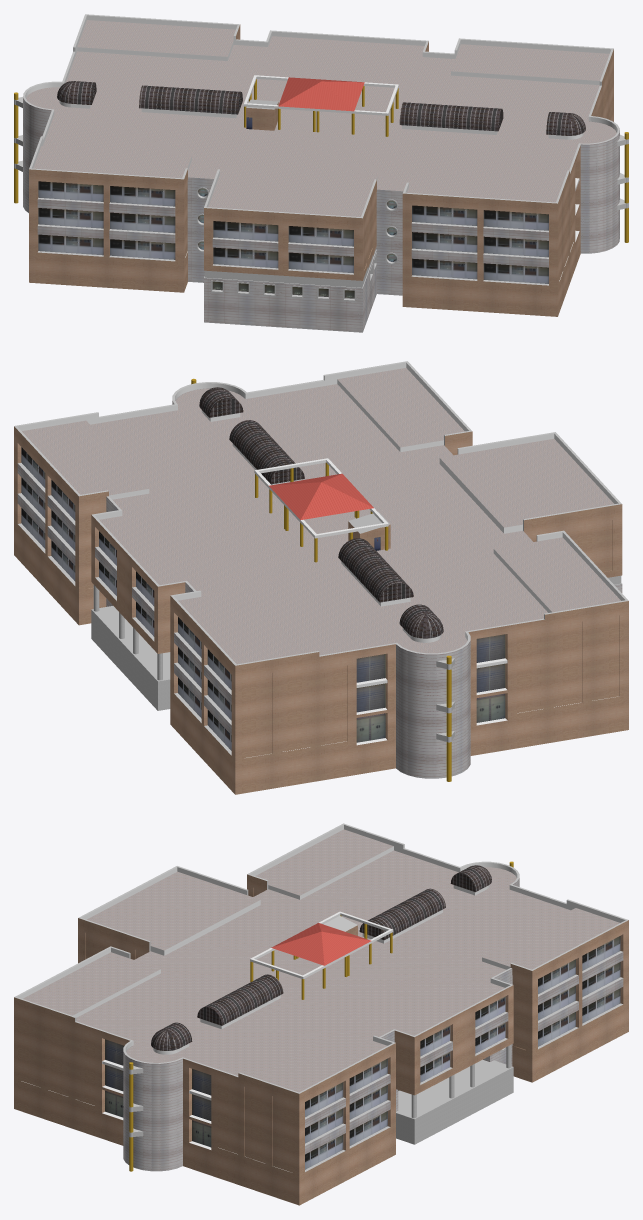
3 renders of one model, top to bottom at view 1: azimuth 30°, elevation 25°; view 2: azimuth 150°, elevation 25°; view 3: azimuth 270°, elevation 25°, orthographic. The views are drawn at different scales.
Parts seen in each view (by area): view 1: SketchUp (×53); view 2: SketchUp (×38); view 3: SketchUp (×42).
Boxes of the visible parts, <box> form: SketchUp (×53): <box>14,14,628,332</box>; SketchUp (×38): <box>14,361,628,794</box>; SketchUp (×42): <box>14,823,628,1205</box>.
Size of the model in its own units: 3578 by 3438 by 856.
